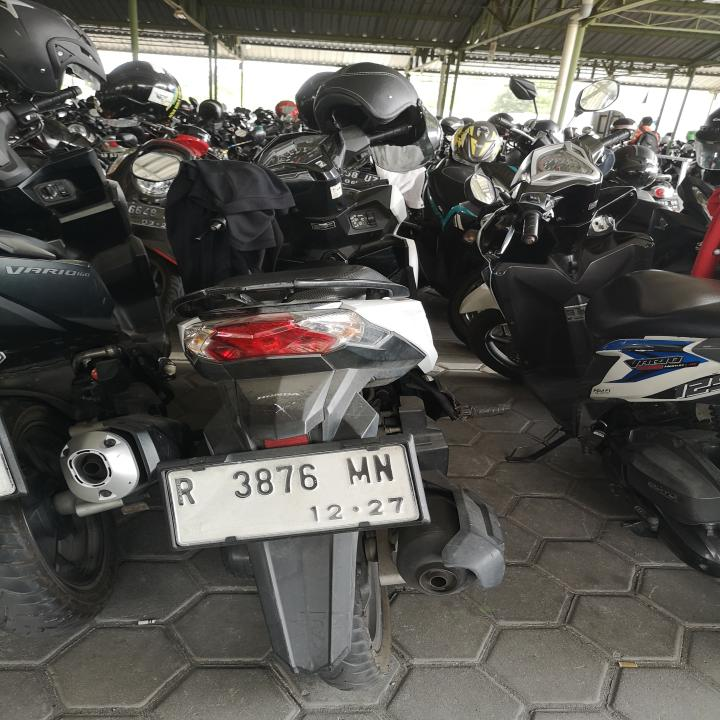plate: (164, 442, 424, 548)
